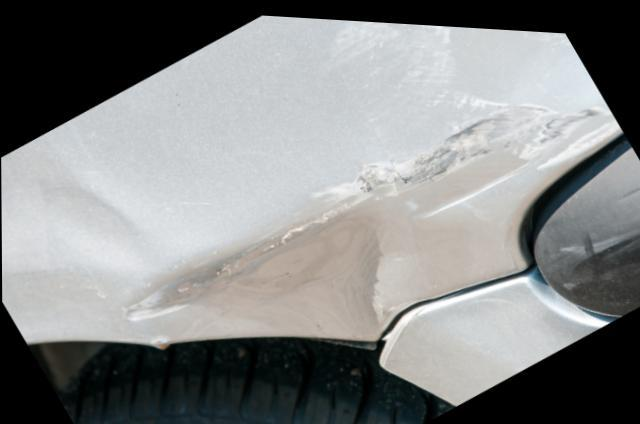dent: (40, 180, 397, 341)
scratch: (327, 16, 622, 198)
